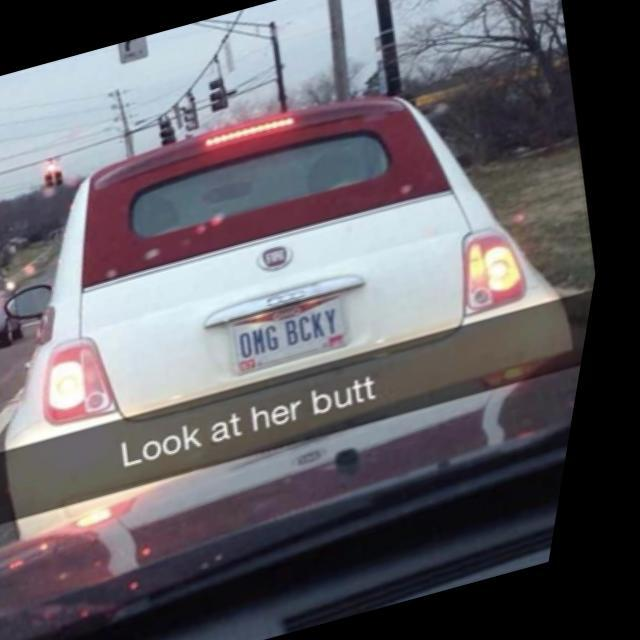license_plate: (228, 291, 369, 378)
